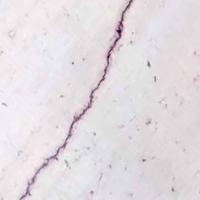crack: (4, 4, 142, 199)
